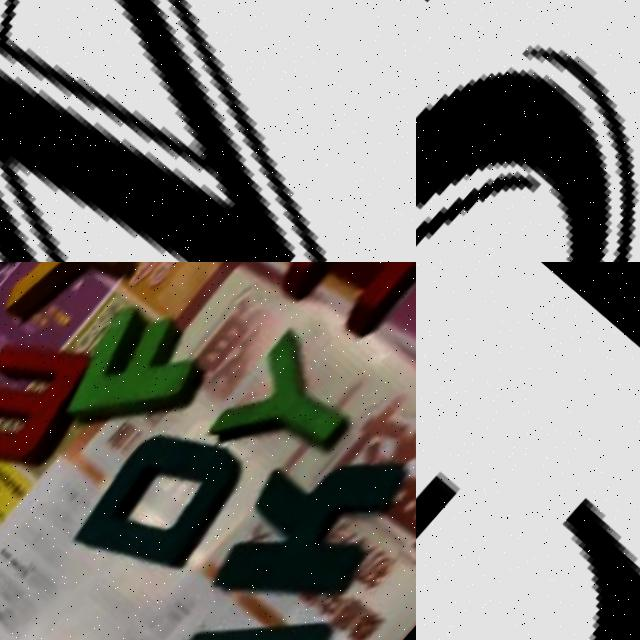D: (70, 401, 273, 611)
F: (53, 290, 223, 464)
I: (269, 262, 416, 360)
K: (199, 403, 416, 640)
M: (114, 557, 368, 640)
N: (0, 0, 416, 262)
S: (416, 0, 640, 262)
W: (0, 315, 105, 496)
X: (0, 262, 184, 357)
Y: (202, 328, 372, 503)
